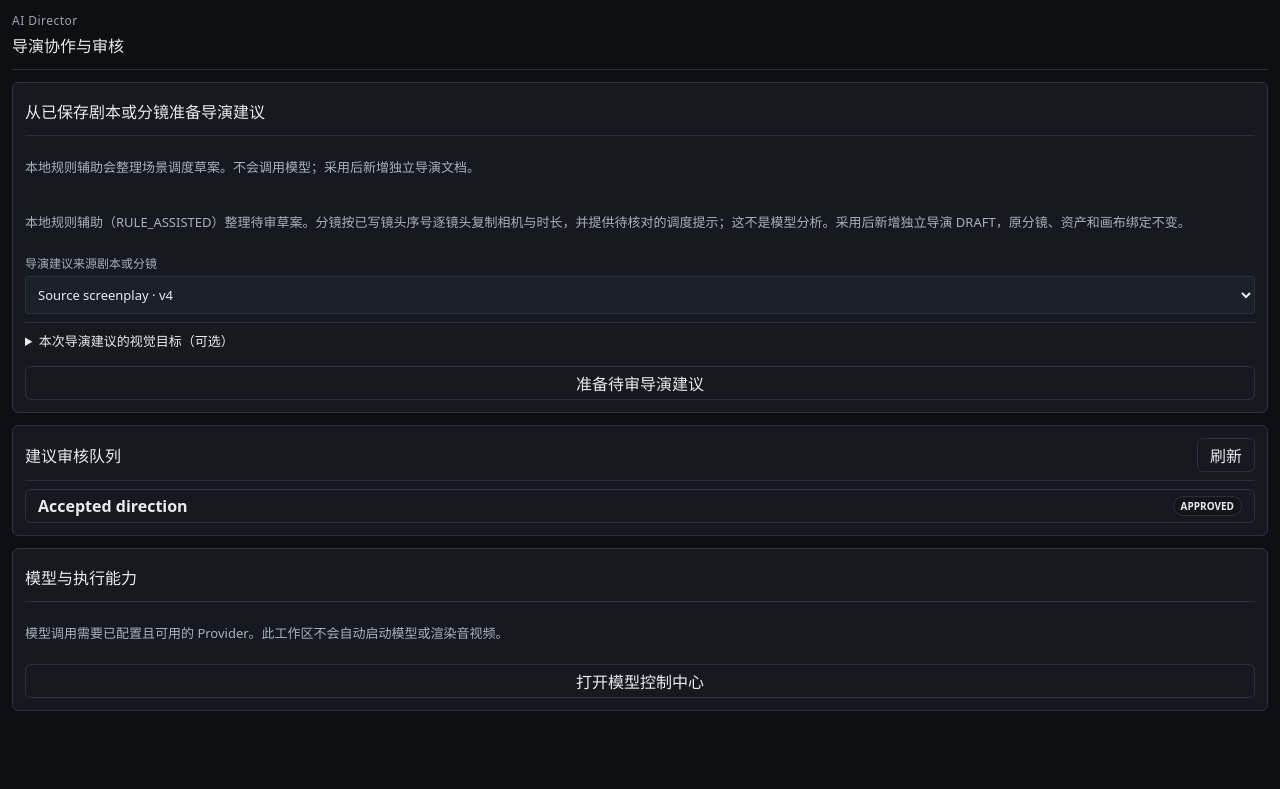
original director proposal linked-draft reopen › rejects a changed original proposal receipt {"status":"CANCELLED"} without reading its document
The width and height of the screenshot is (1280, 789).
Click the button "Accepted direction APPROVED": (113, 506) [25,489,1255,523]
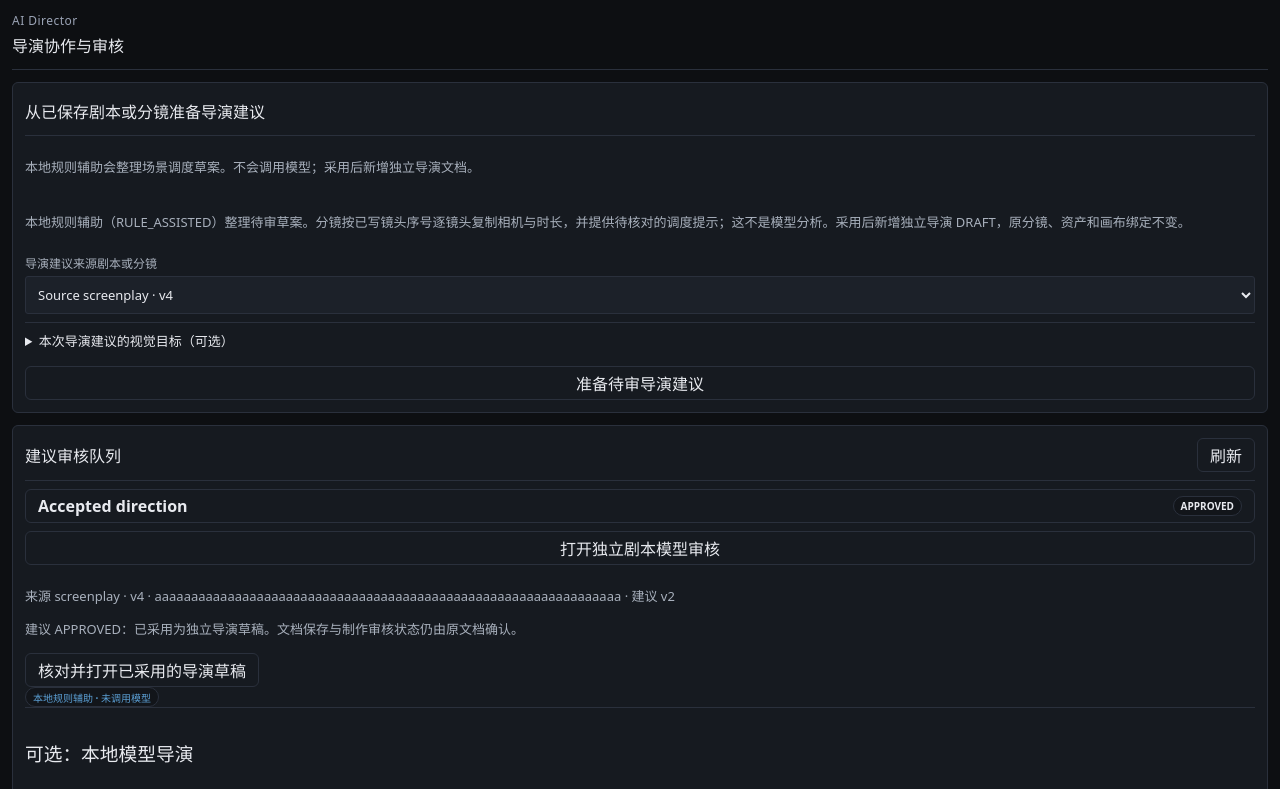
Click the button "核对并打开已采用的导演草稿": (142, 670) [25,653,259,687]
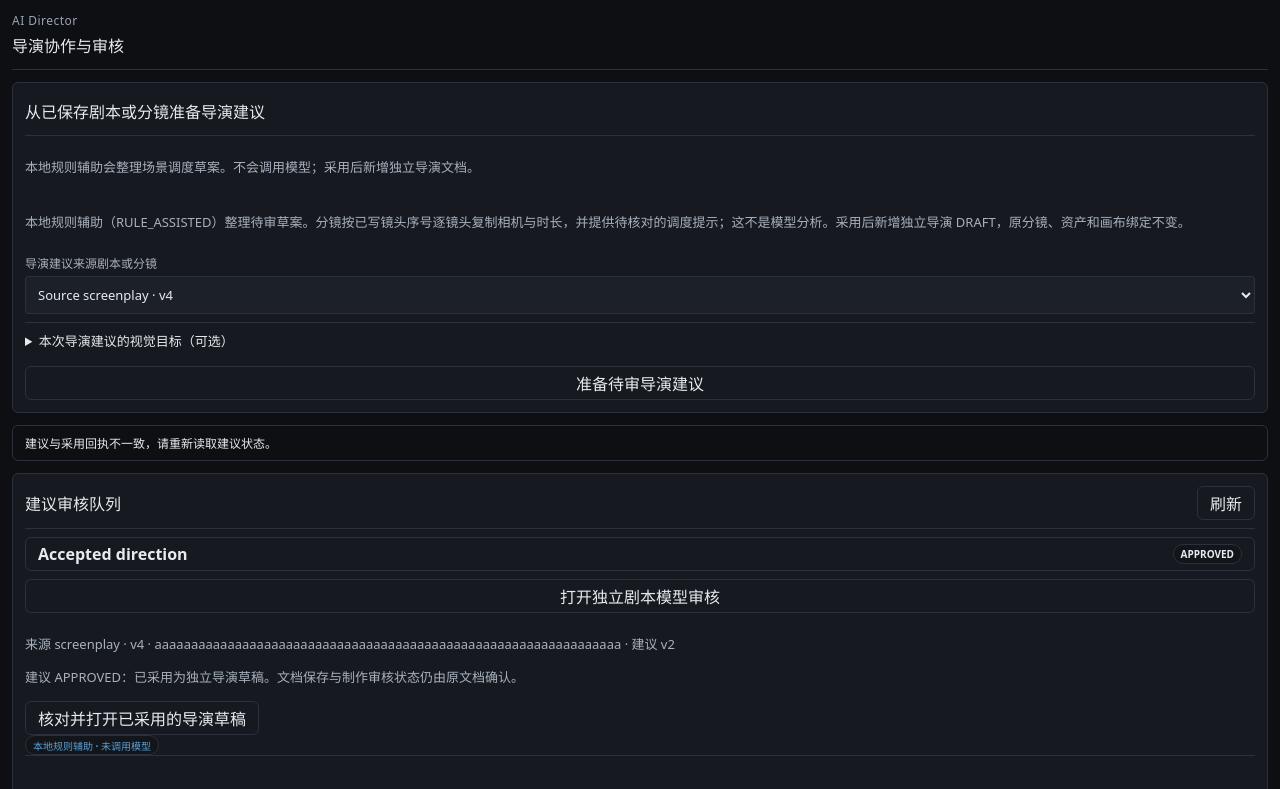
Expected: the text "建议与采用回执不一致，请重新读取建议状态。" is shown, [12,425,1268,461]
